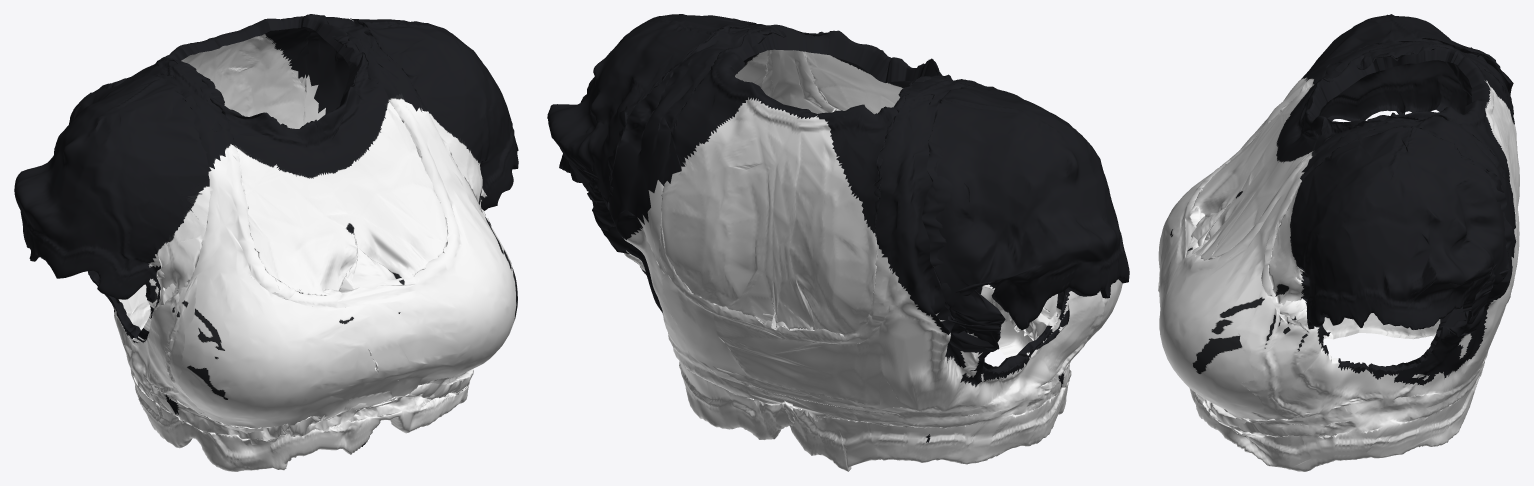
File: top_f_croptee.glb
3 renders of one model, left to right at view 1: azimuth 30°, elevation 25°; view 2: azimuth 150°, elevation 25°; view 3: azimuth 270°, elevation 25°, orthographic. The views are drawn at different scales.
Visible parts, largest first — view 1: top_f_croptee; view 2: top_f_croptee; view 3: top_f_croptee.
Boxes of the visible parts, left/top/right/bottom form: top_f_croptee: left=14, top=14, right=518, bottom=471; top_f_croptee: left=547, top=14, right=1129, bottom=471; top_f_croptee: left=1158, top=14, right=1519, bottom=471.
Size of the model in its own units: 0.5159 by 0.3535 by 0.3453.
Materials: 1 (1 with a texture image).
